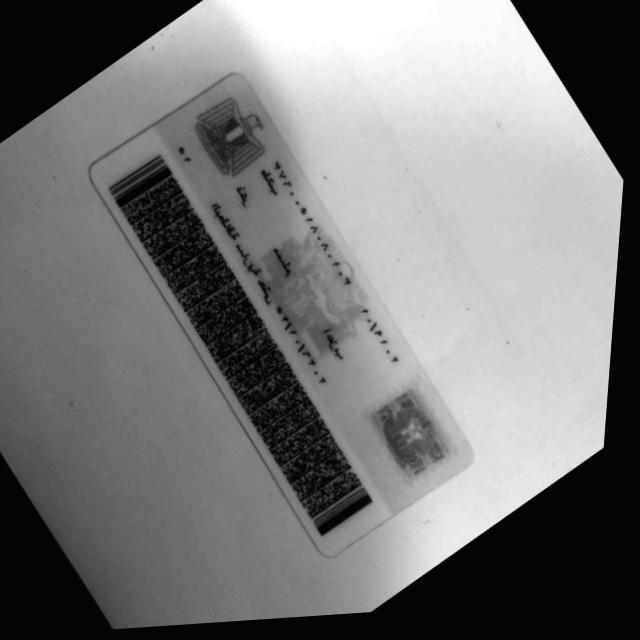id_card: (90, 74, 473, 556)
